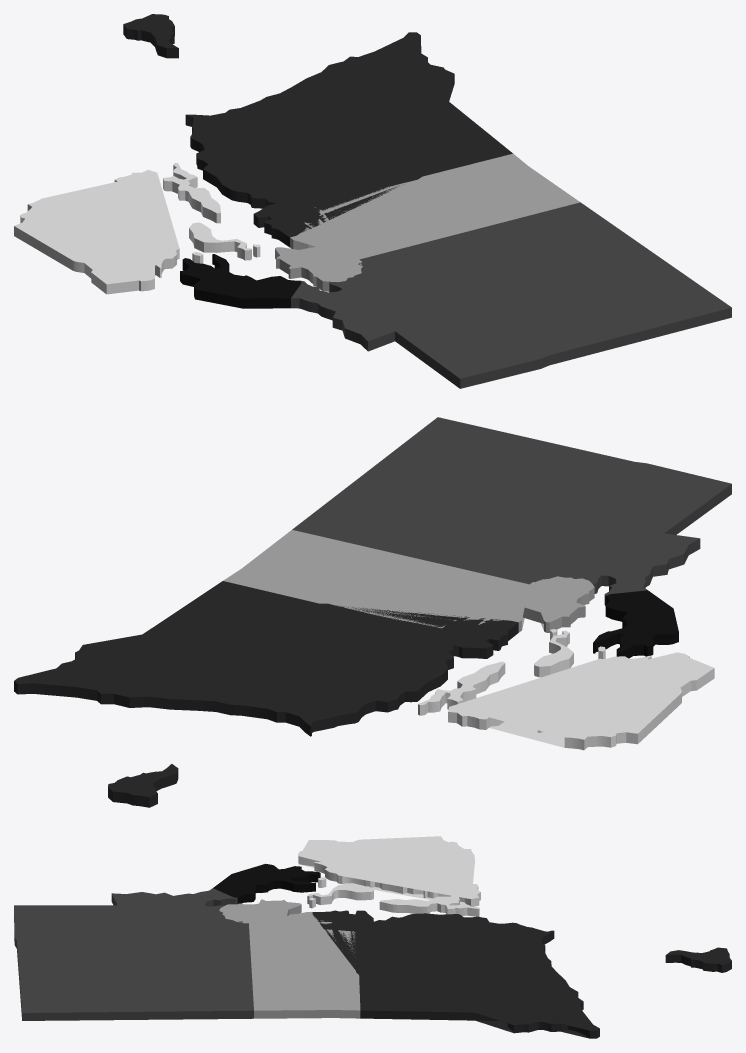
Rendered from Rhode_Island_Counties_3D.fbx.
3 views of the same model, one above another, from view 1: azimuth 30°, elevation 25°; view 2: azimuth 150°, elevation 25°; view 3: azimuth 270°, elevation 25° (orthographic). The views are drawn at different scales.
Parts seen in each view (by area): view 1: RI_Providence_County_3D, RI_Washington_County_3D, RI_Kent_County_3D, RI_Newport_County_3D, RI_Bristol_County_3D; view 2: RI_Providence_County_3D, RI_Washington_County_3D, RI_Kent_County_3D, RI_Newport_County_3D, RI_Bristol_County_3D; view 3: RI_Providence_County_3D, RI_Washington_County_3D, RI_Kent_County_3D, RI_Newport_County_3D, RI_Bristol_County_3D.
Part boxes in pixels (x1,y1,x2,y2): RI_Providence_County_3D: [291, 202, 731, 388]; RI_Washington_County_3D: [123, 14, 512, 247]; RI_Kent_County_3D: [275, 153, 579, 291]; RI_Newport_County_3D: [14, 163, 260, 294]; RI_Bristol_County_3D: [180, 254, 301, 308]; RI_Providence_County_3D: [292, 417, 731, 605]; RI_Washington_County_3D: [14, 581, 518, 807]; RI_Kent_County_3D: [223, 530, 594, 632]; RI_Newport_County_3D: [418, 629, 714, 750]; RI_Bristol_County_3D: [593, 590, 678, 658]; RI_Providence_County_3D: [14, 888, 253, 1020]; RI_Washington_County_3D: [312, 910, 731, 1038]; RI_Kent_County_3D: [219, 899, 360, 1018]; RI_Newport_County_3D: [298, 836, 480, 916]; RI_Bristol_County_3D: [213, 863, 320, 903].
Bounding box in the file's own units: 518 × 10 × 808.
